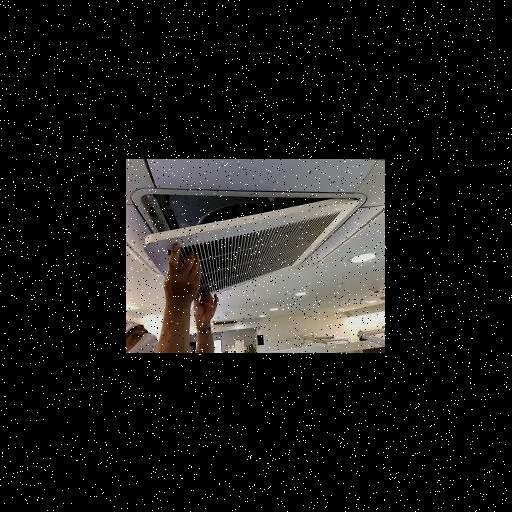4-way-ac: (130, 159, 384, 300)
